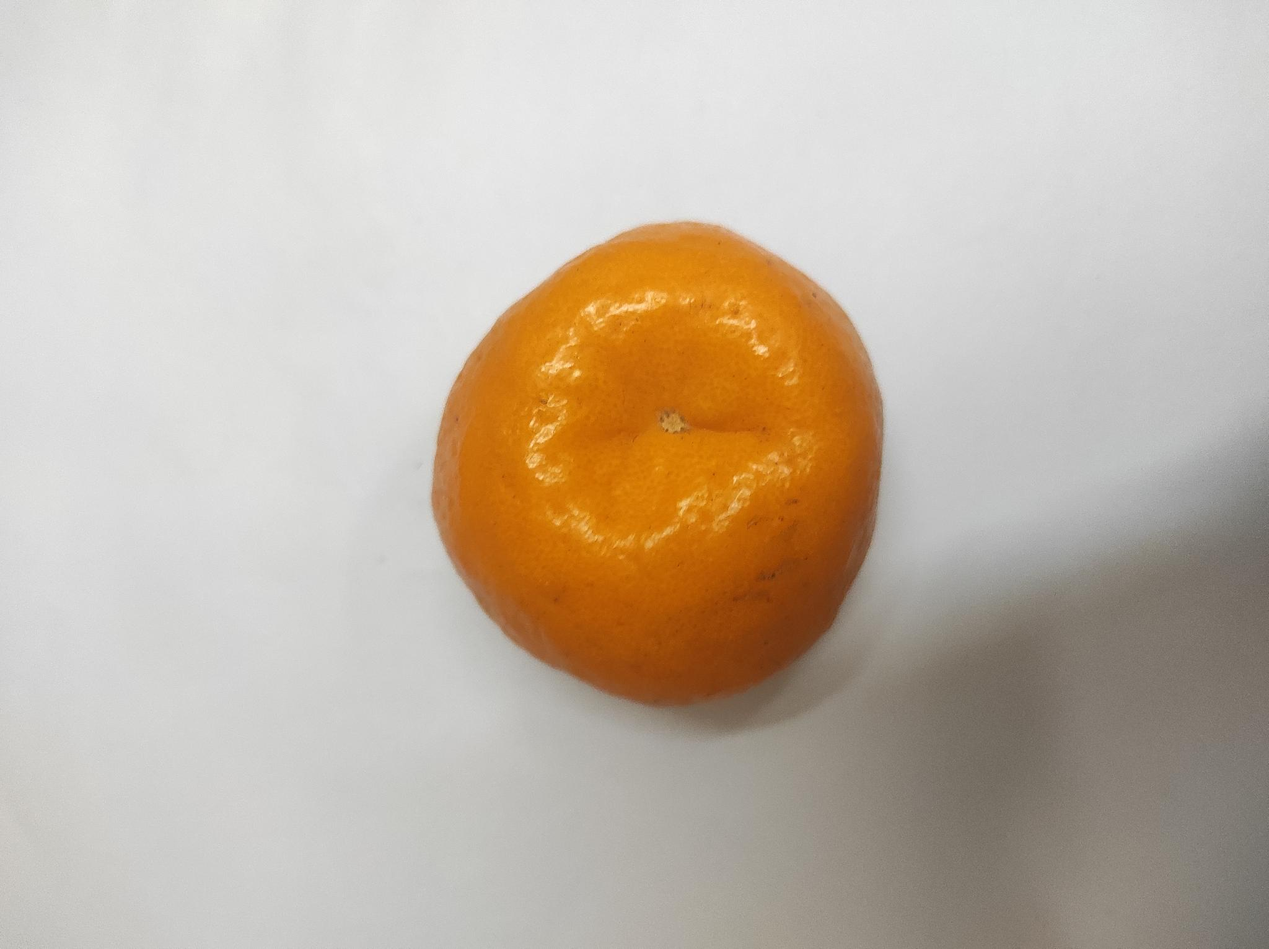Orange Ripe: (427, 224, 878, 703)
